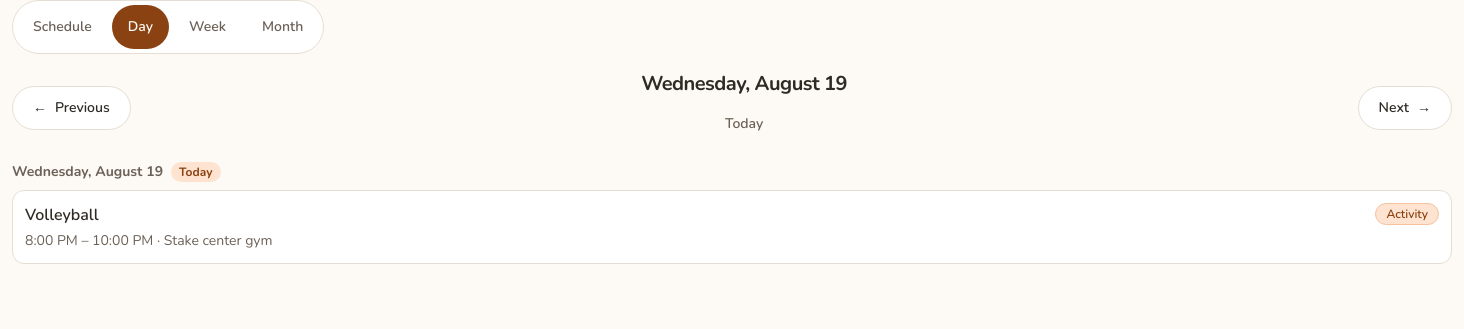
Test case: CalendarView › empties out on a day with nothing on it, and Today comes back
The width and height of the screenshot is (1464, 329).
Expected: the button "Day" is shown, left=112, top=5, right=169, bottom=49
Click the button with aria-label "Previous day": (71, 108) left=12, top=86, right=131, bottom=130
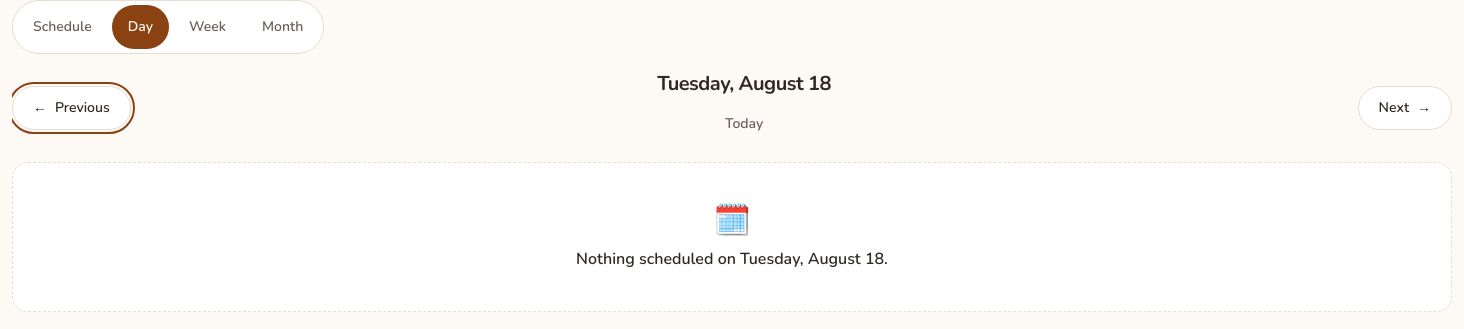
Expected: the text "Nothing scheduled on Tuesday, August 18." is shown, left=576, top=248, right=888, bottom=270
Click the button "Today": (744, 124) left=705, top=102, right=783, bottom=146
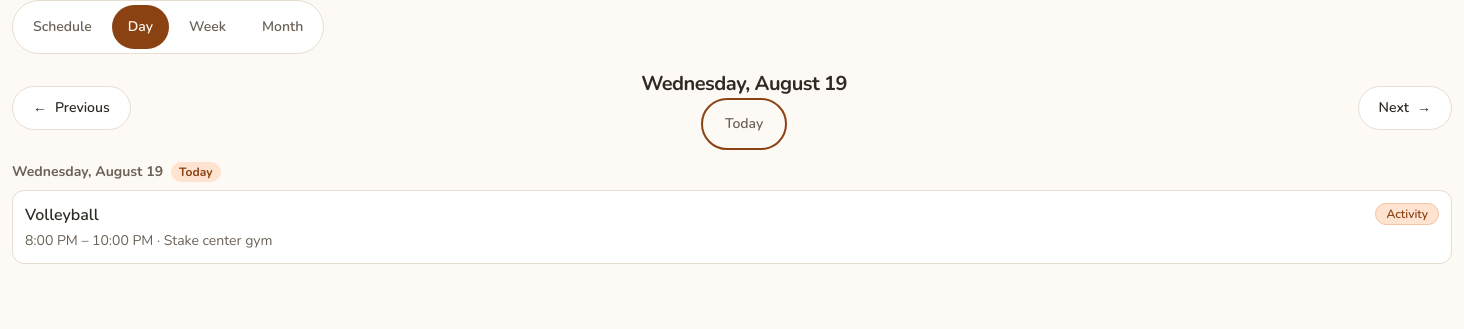
Expected: the text "Volleyball" is shown, left=25, top=203, right=99, bottom=227
